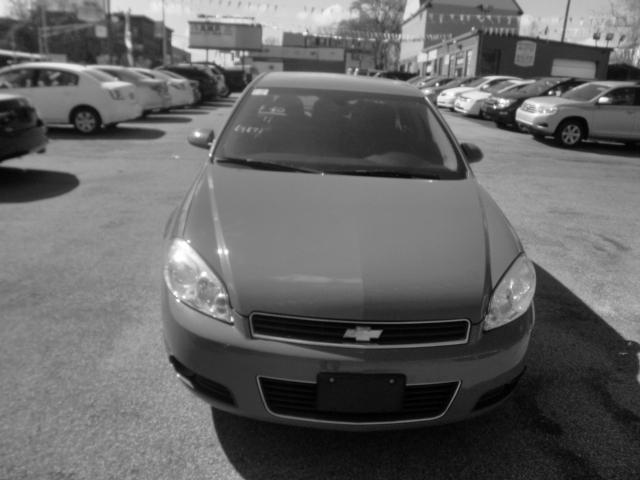car: (153, 67, 561, 435)
